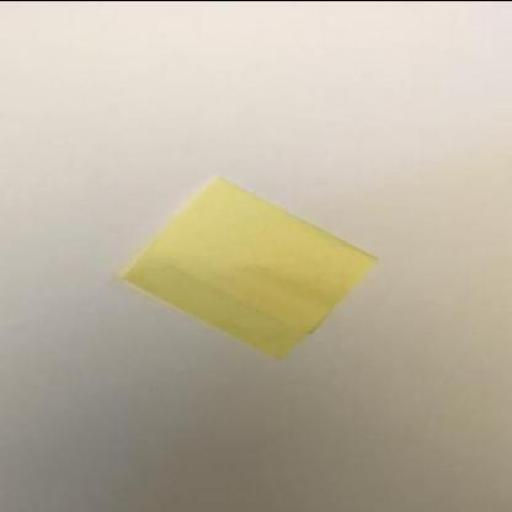paper: (124, 174, 382, 360)
